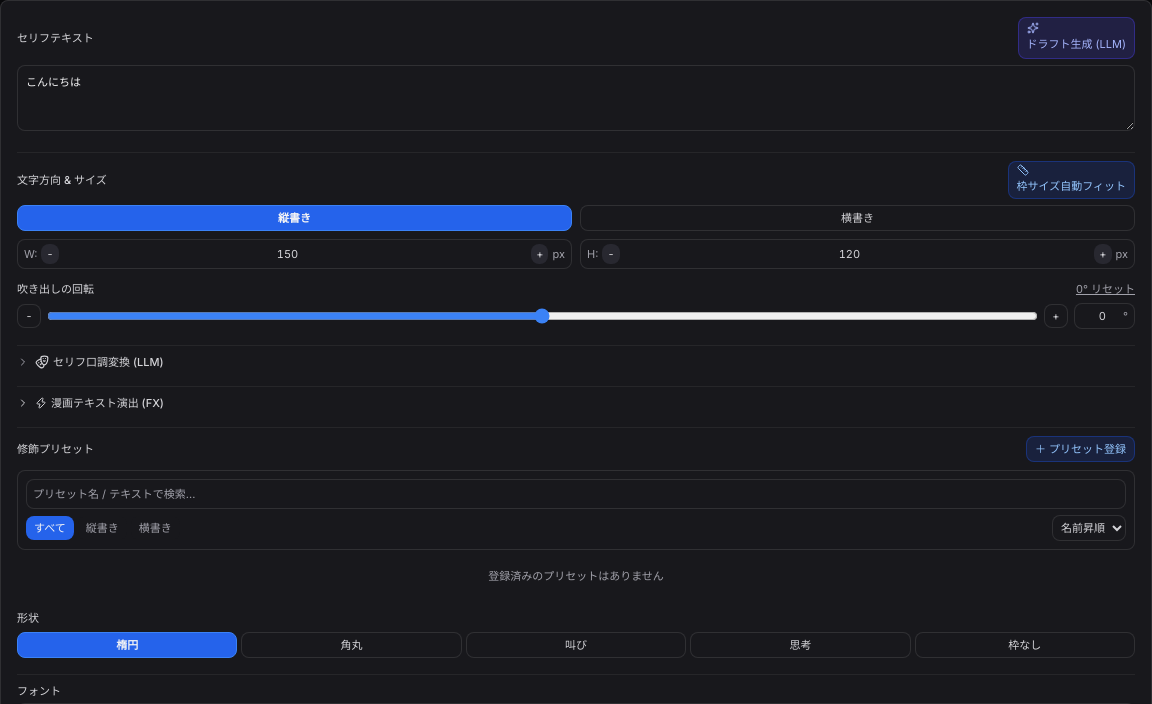
it: SpeechBubbleControls › creates and adds a new preset
// Open add input
Click the button "＋ プリセット登録" at {"x": 1080, "y": 449}, box [1026,436,1135,462]
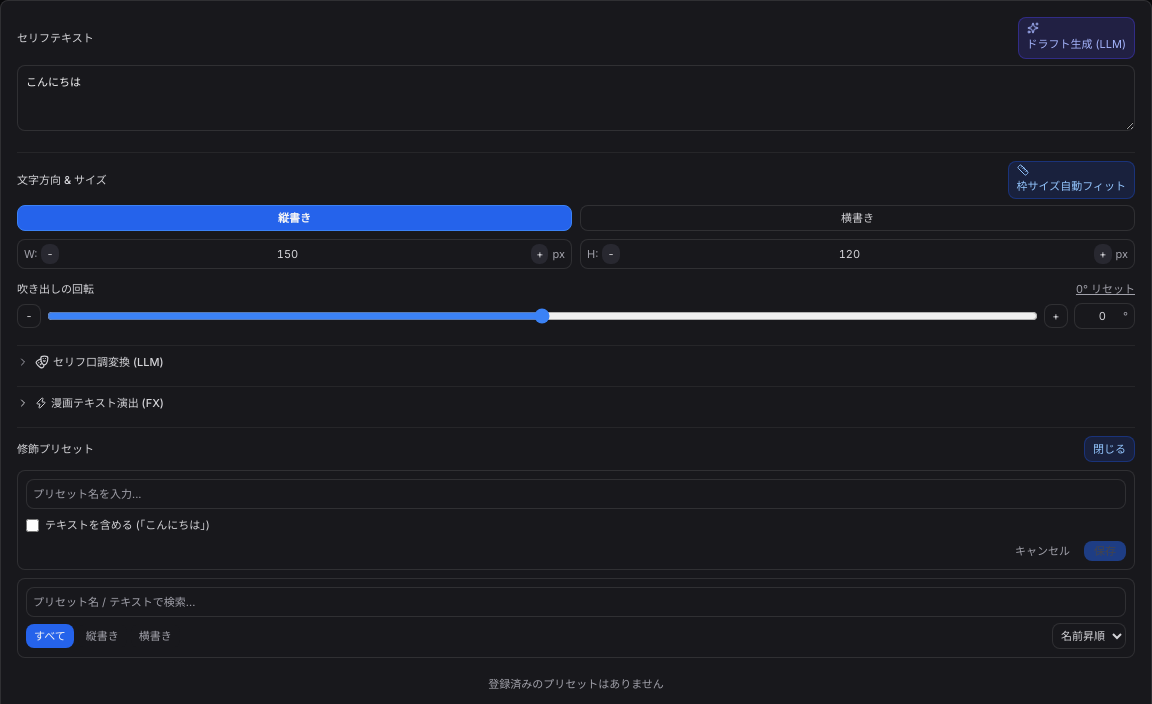
Type "新規プリセット" into the field with placeholder "プリセット名を入力..." at {"x": 576, "y": 494}, box [26,479,1126,509]
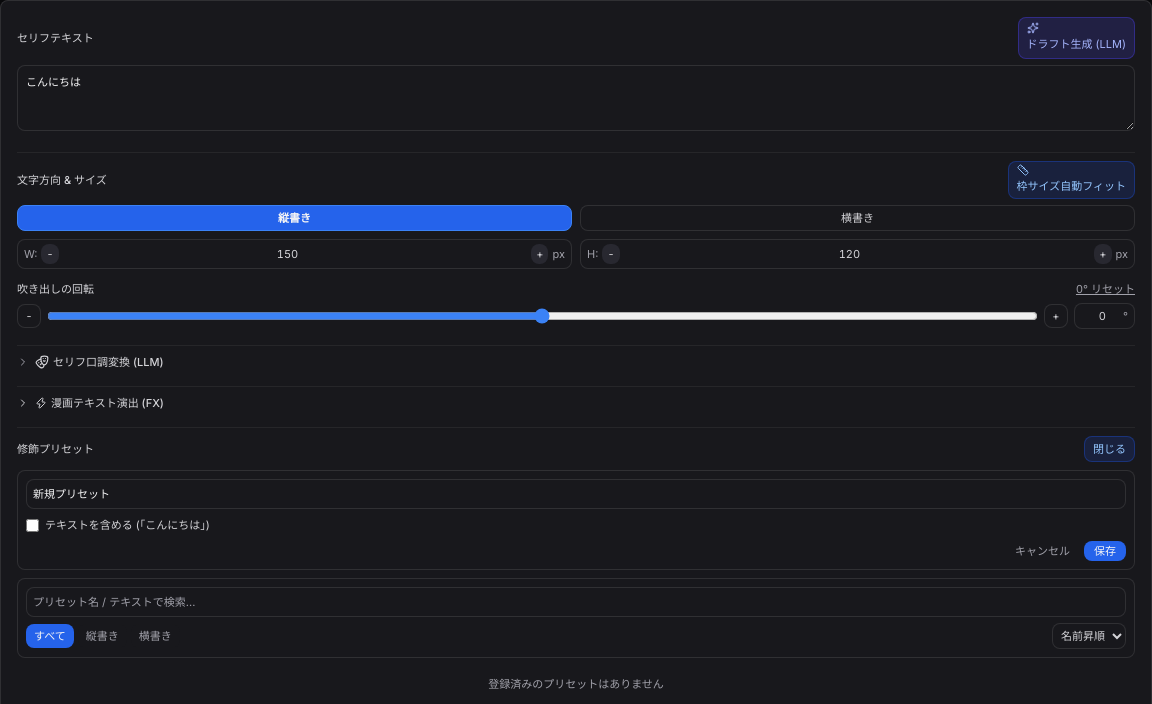
Click the button "保存" at {"x": 1105, "y": 551}, box [1084,541,1126,561]
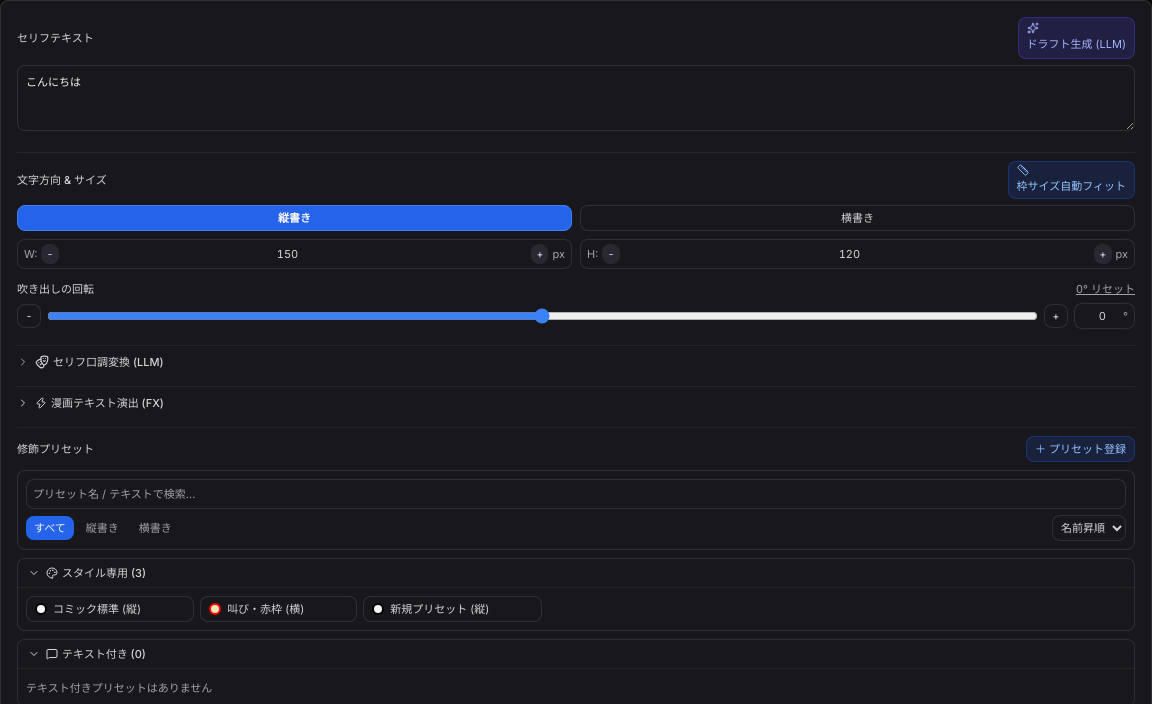
Now the text "新規プリセット (縦)" is shown, box [390,601,489,617]
